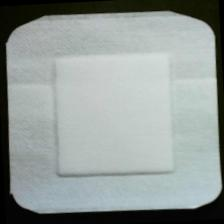Dressing: (1, 6, 224, 219)
